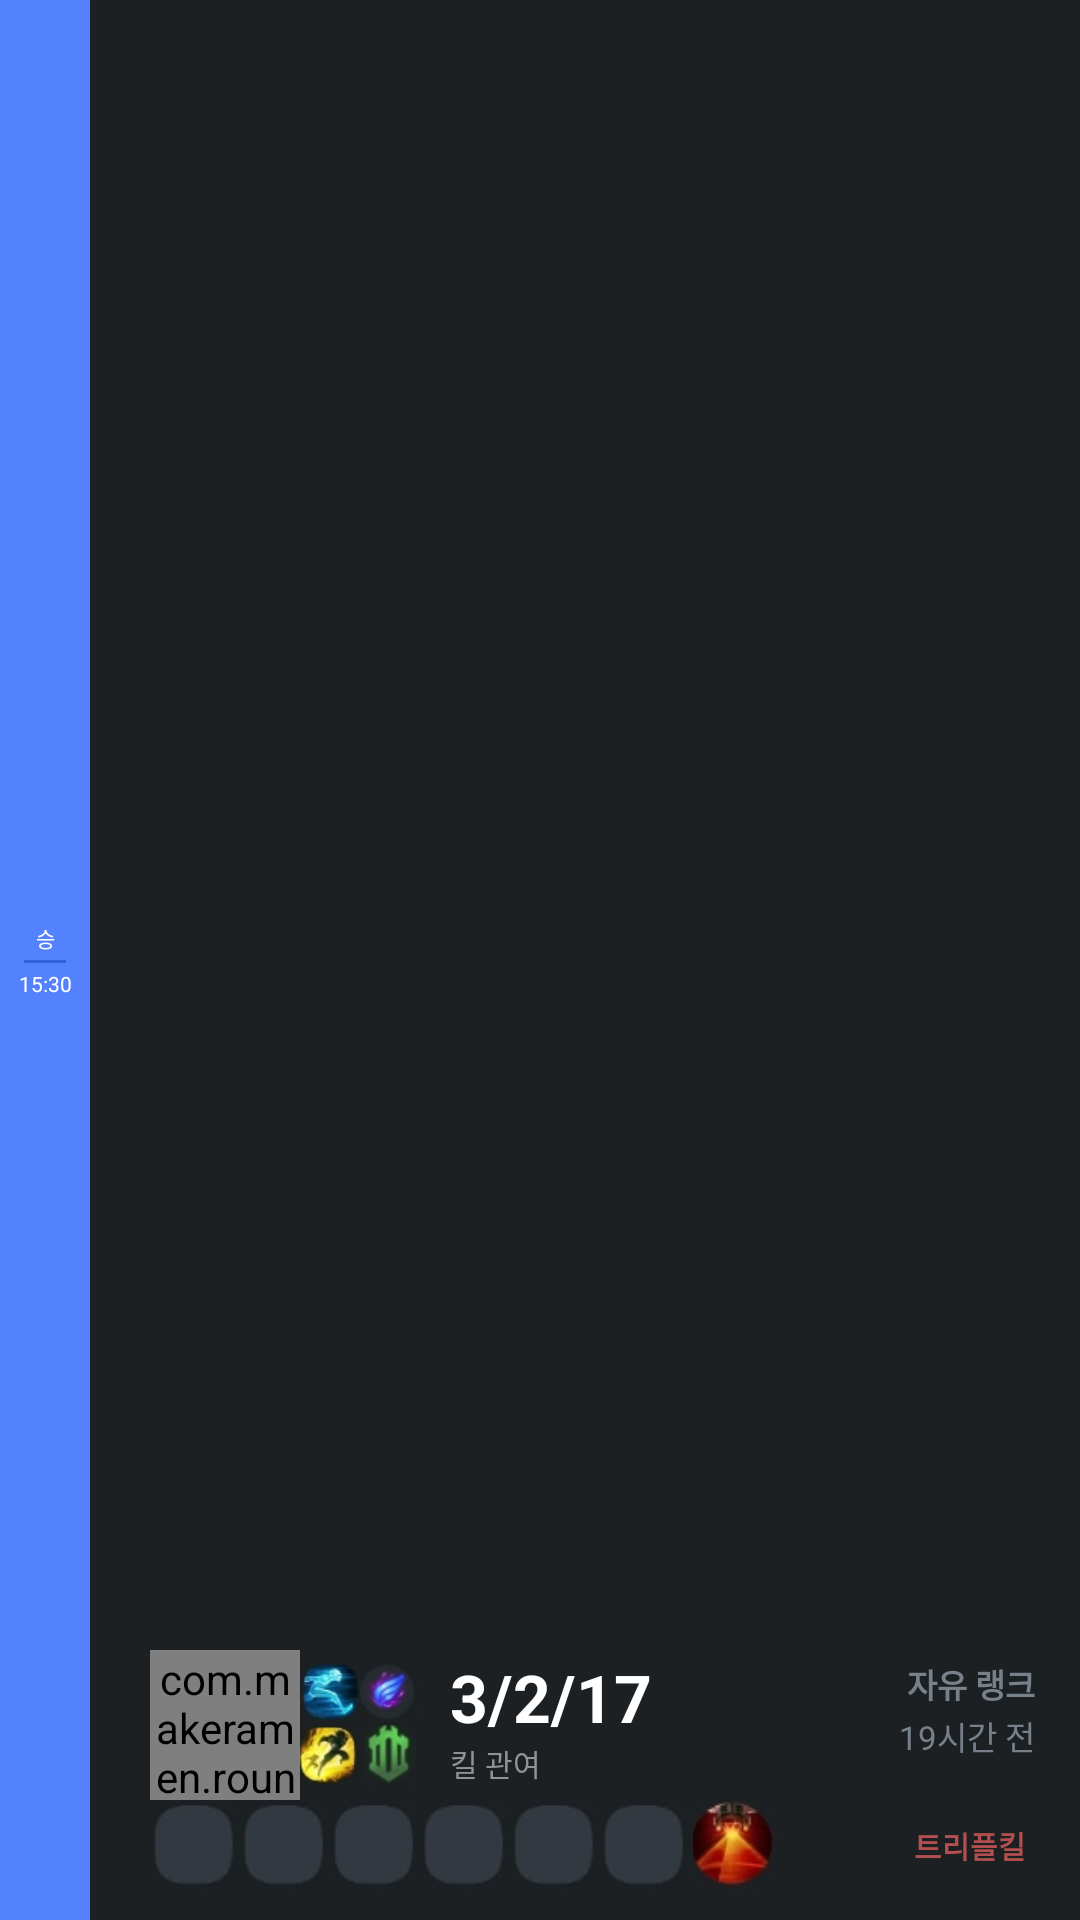

Where to tap for icons on this 1080w x 1920h app screen, as (x,y):
summoner chmap spell run: (330,1691)
summoner chmap sub roon: (389,1753)
summoner sub item: (732,1843)
